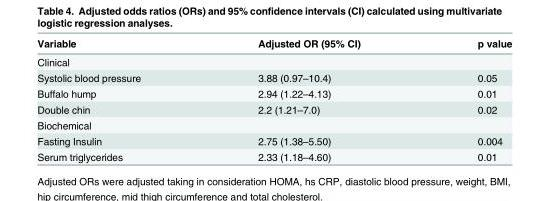table: (36, 36, 511, 162)
table column: (198, 36, 418, 162), (36, 36, 198, 162), (418, 36, 511, 162)
table column header: (36, 36, 511, 52)
table projected row header: (36, 52, 511, 69), (36, 116, 511, 132)
table row: (36, 52, 511, 69), (36, 36, 511, 52), (36, 69, 511, 85), (36, 85, 511, 101), (36, 116, 511, 132), (36, 132, 511, 148), (36, 101, 511, 116), (36, 148, 511, 162)
